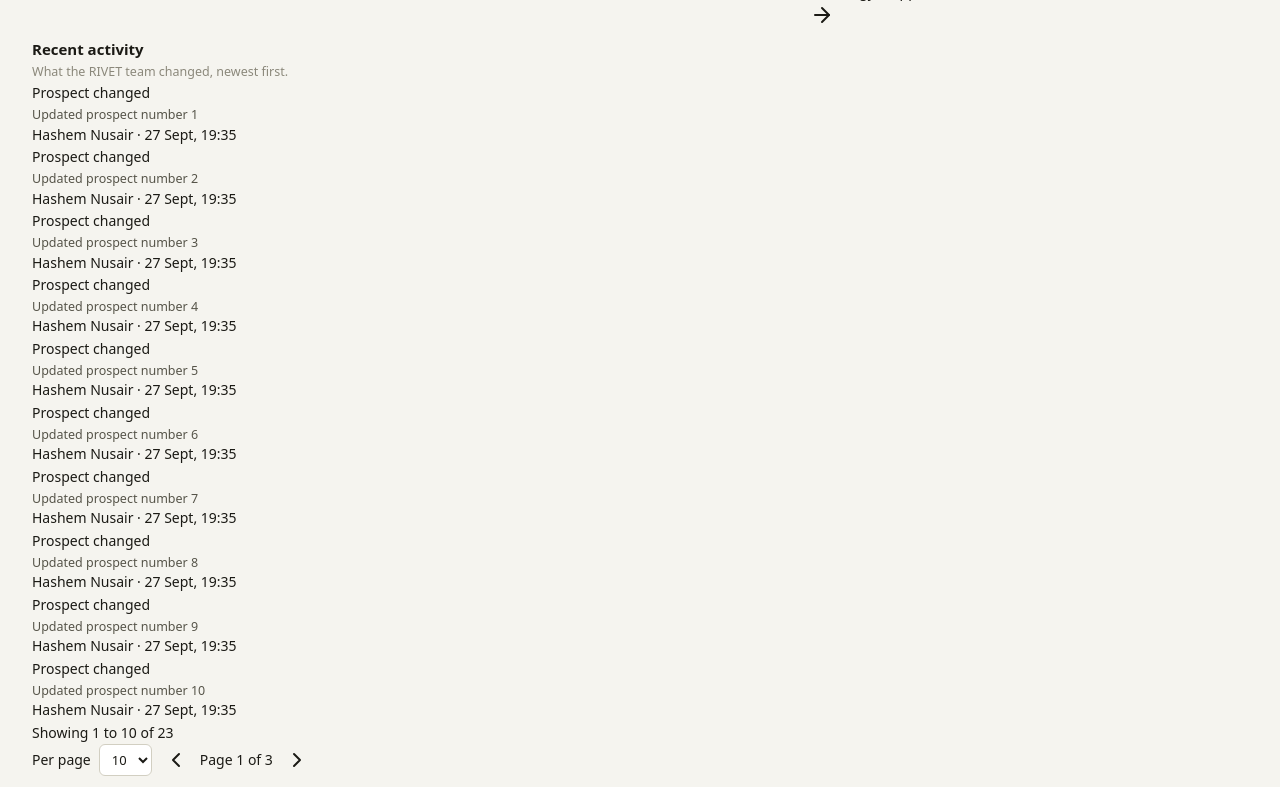
Test: PlatformOverviewPage › shows operator activity 10 at a time, and 5 or 20 when chosen
(page scrolled)
Check: the text "Showing 1 to 10 of 23" is shown, box [32,723,174,742]
Step 1. Click the button named "Next page" → (297, 760), box [285,748,309,772]
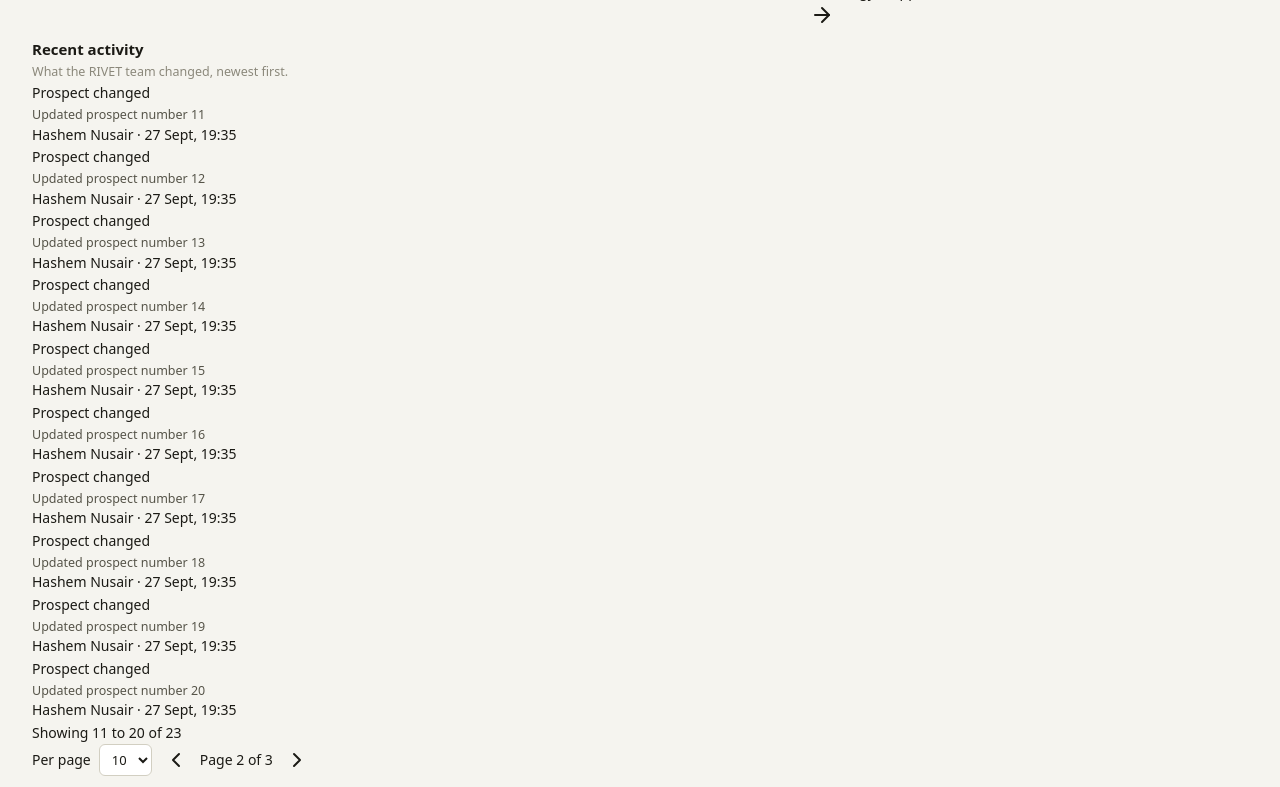
Step 2. Click the button named "Next page" → (297, 760), box [285,748,309,772]
(page scrolled)
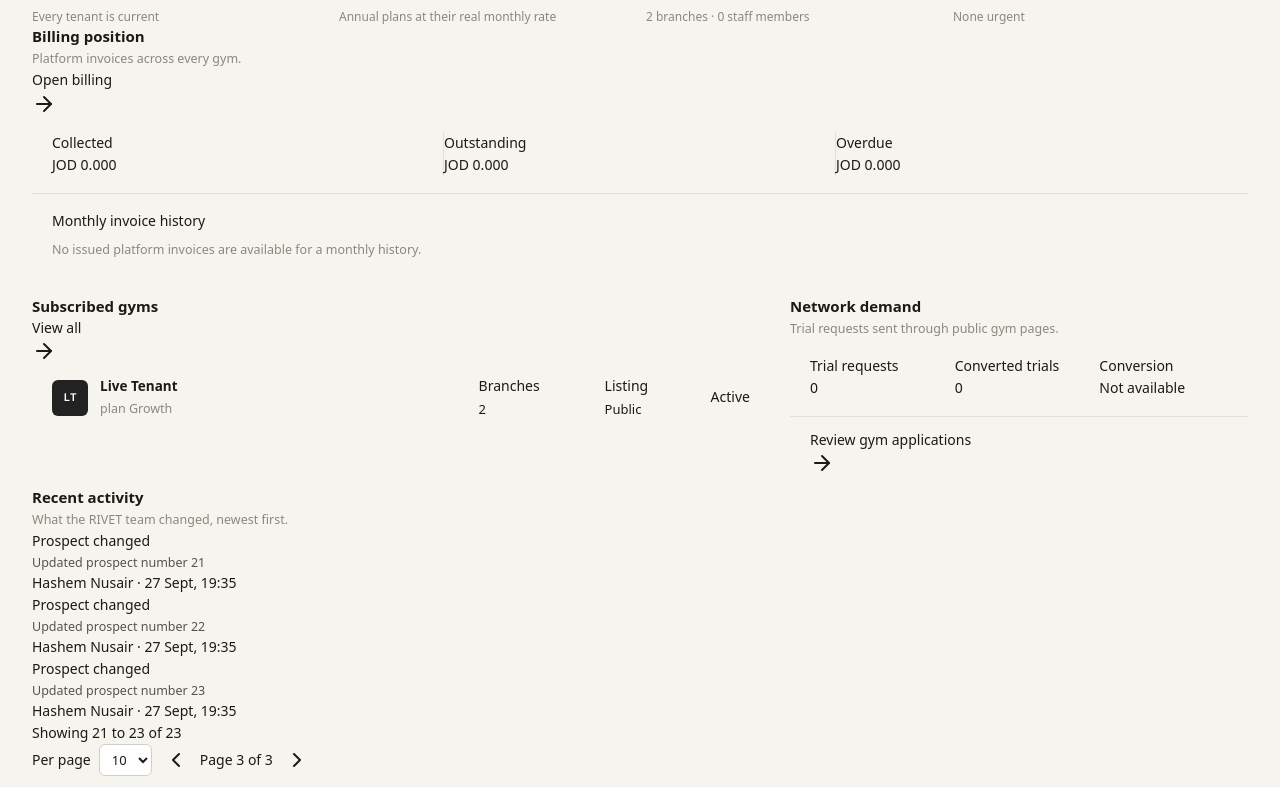
Check: the number of list items is 3, box [32,531,237,592]; [32,595,237,656]; [32,659,237,720]
Check: the 1st list item shows "Updated prospect number 21", box [32,554,205,571]
Step 3. Select "5" in the dropdown labelled "Per page" → (125, 760), box [99,744,152,776]
(page scrolled)
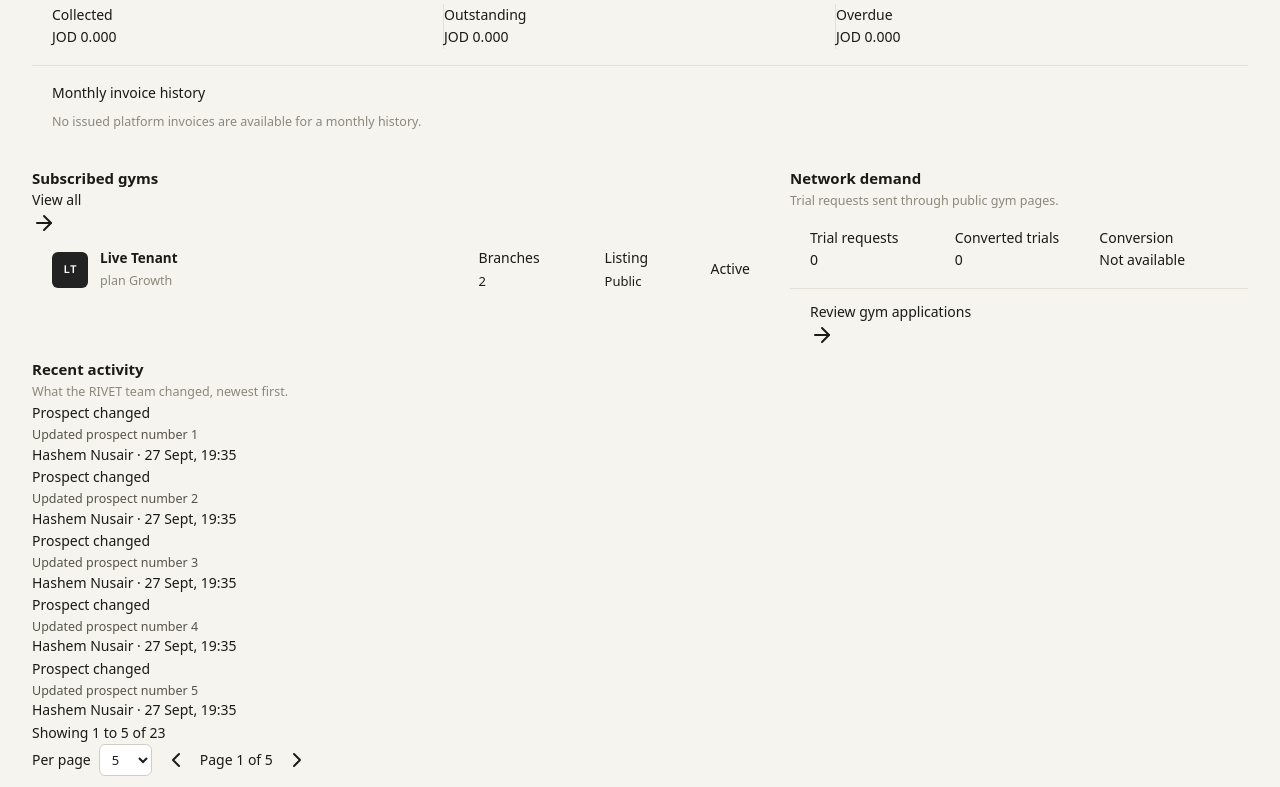
Check: the number of list items is 5, box [32,403,237,464]; [32,467,237,528]; [32,531,237,592]; [32,595,237,656]; [32,659,237,720]
Check: the text "Showing 1 to 5 of 23" is shown, box [32,723,166,742]
Step 4. Select "20" in the dropdown labelled "Per page" → (125, 760), box [99,744,152,776]
(page scrolled)
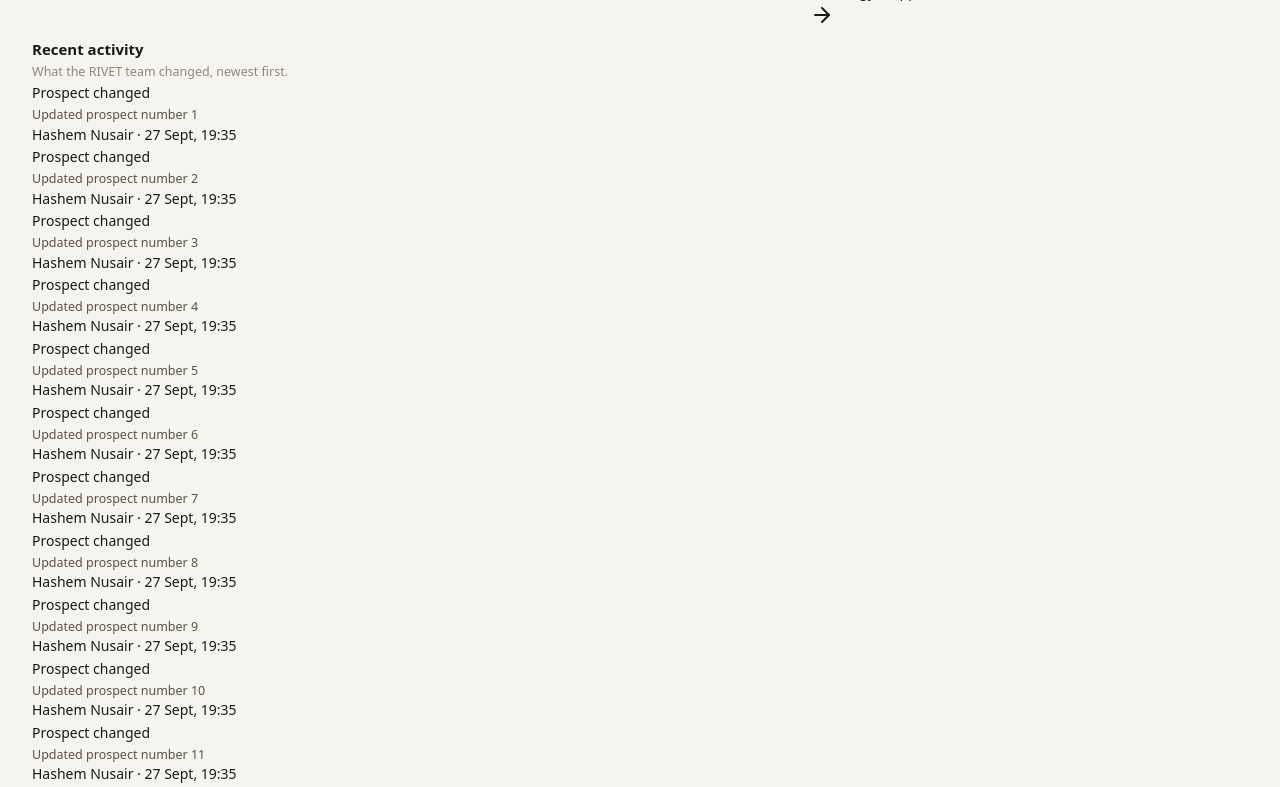
Check: the number of list items is 20
